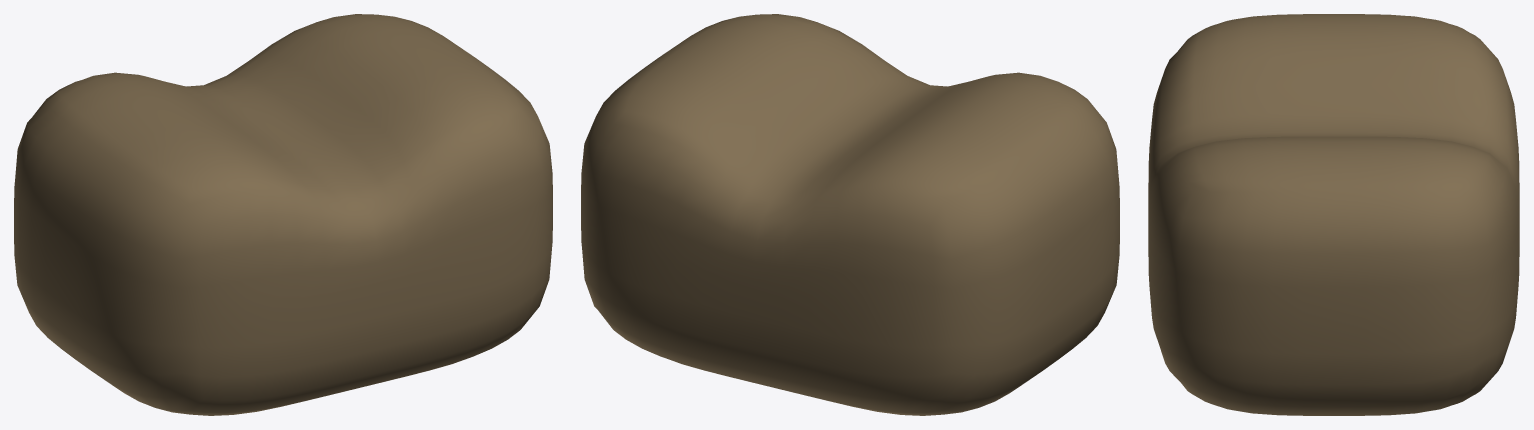
Rendered from sandbag.glb.
3 views of the same model, side by side, from view 1: azimuth 30°, elevation 25°; view 2: azimuth 150°, elevation 25°; view 3: azimuth 270°, elevation 25° (orthographic). The views are drawn at different scales.
Parts seen in each view (by area): view 1: bag; view 2: bag; view 3: bag.
Part boxes in pixels (x1,y1,x2,y2): bag: [14, 14, 552, 415]; bag: [581, 14, 1119, 415]; bag: [1148, 14, 1519, 415].
Bounding box in the file's own units: 0.2704 × 0.1462 × 0.2.
